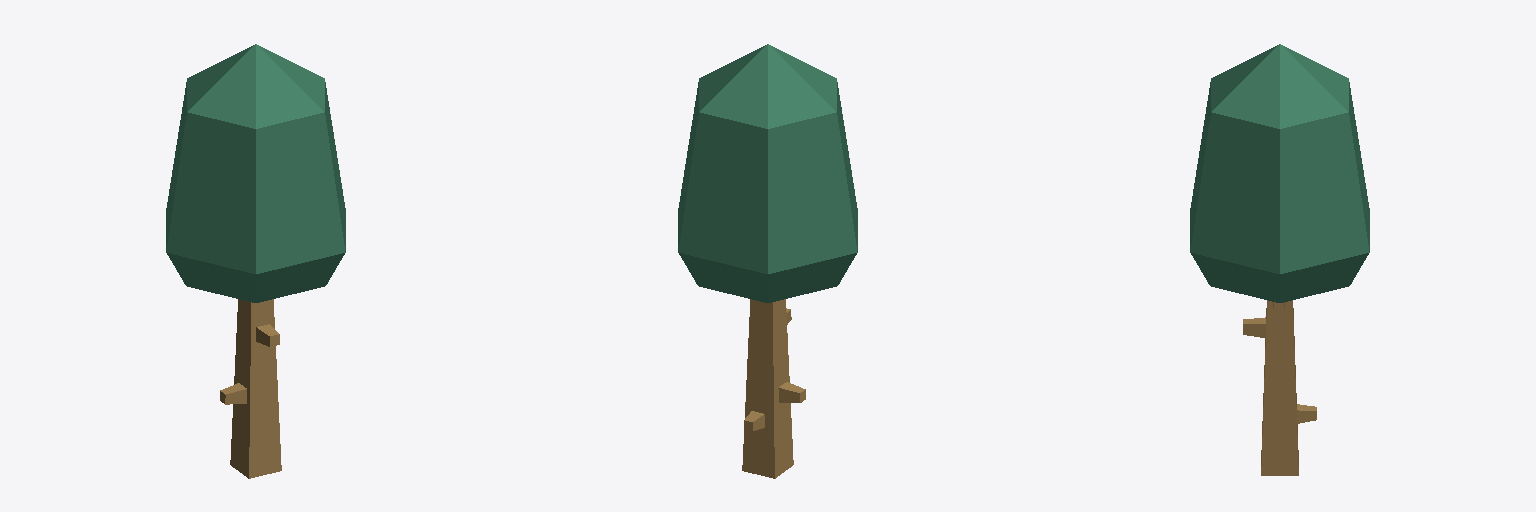
File: tree.obj
3 renders of one model, left to right at view 1: azimuth 30°, elevation 25°; view 2: azimuth 150°, elevation 25°; view 3: azimuth 270°, elevation 25°, orthographic.
Visible parts, largest first — view 1: Mesh1_Large_Oak_Dark_Model; view 2: Mesh1_Large_Oak_Dark_Model; view 3: Mesh1_Large_Oak_Dark_Model.
Part boxes in pixels (bbox=[...]): Mesh1_Large_Oak_Dark_Model: bbox=[166, 44, 345, 478]; Mesh1_Large_Oak_Dark_Model: bbox=[678, 44, 857, 478]; Mesh1_Large_Oak_Dark_Model: bbox=[1190, 44, 1369, 475].
Bounding box in the file's own units: 3.02 × 6.83 × 2.62.